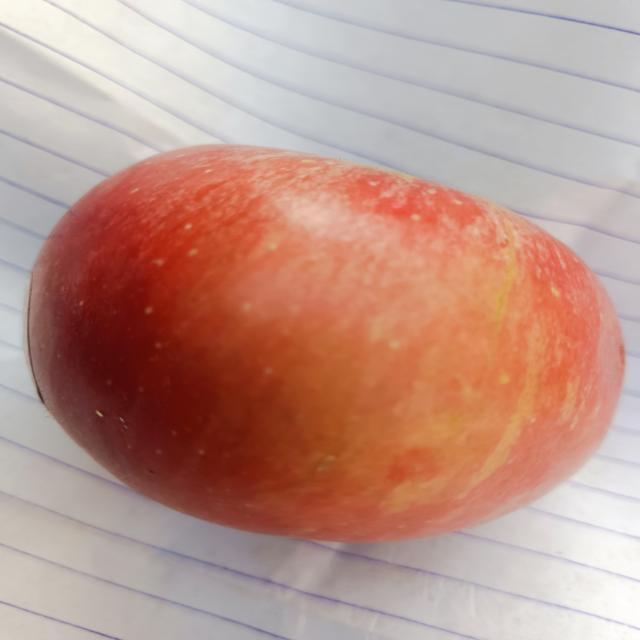Fresh Apple: (37, 148, 625, 547)
